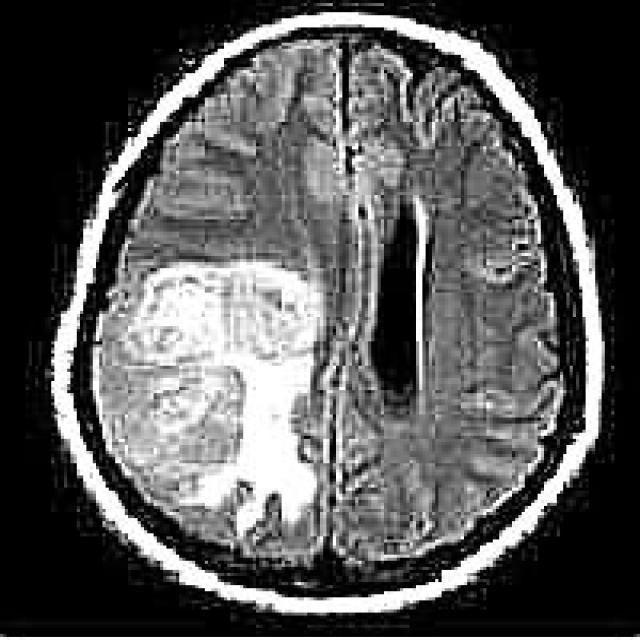brain tumor: (99, 262, 320, 546)
